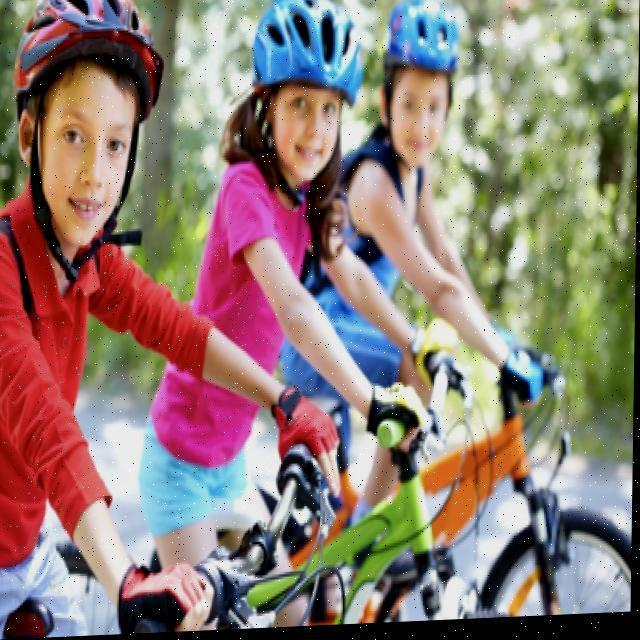Helmet: (12, 0, 165, 254), (246, 1, 370, 195)
